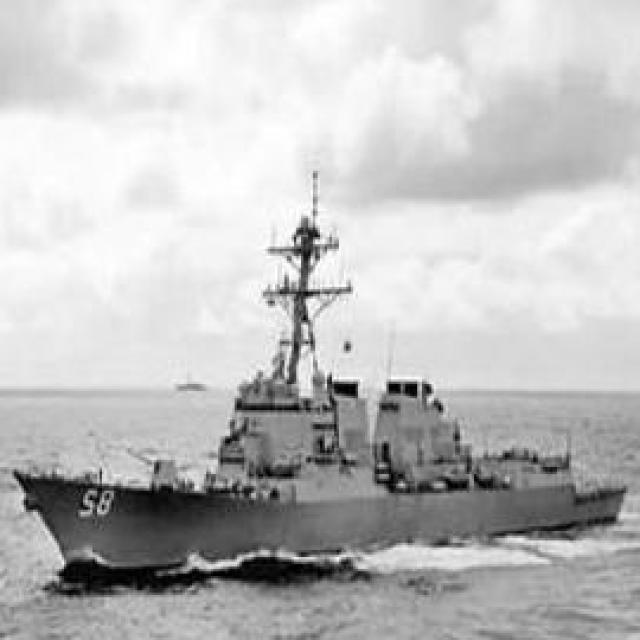navalvessels: (17, 166, 626, 575)
